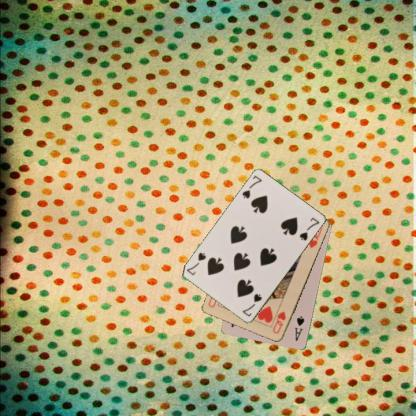7s: (239, 173, 264, 200), (240, 291, 263, 318)
As: (292, 314, 306, 342)
Qh: (270, 308, 288, 335)
